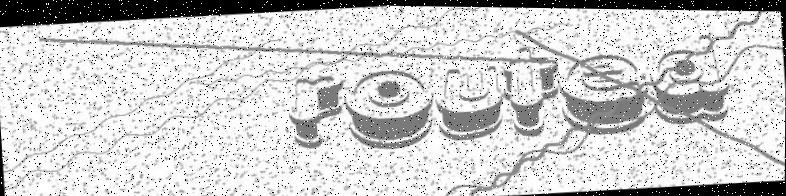d: (648, 33, 731, 123)
e: (557, 50, 647, 137)
o: (343, 66, 436, 152)
r: (287, 74, 349, 150)
t: (501, 43, 563, 137)
u: (433, 62, 507, 142)
